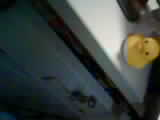duck: (114, 27, 154, 72)
